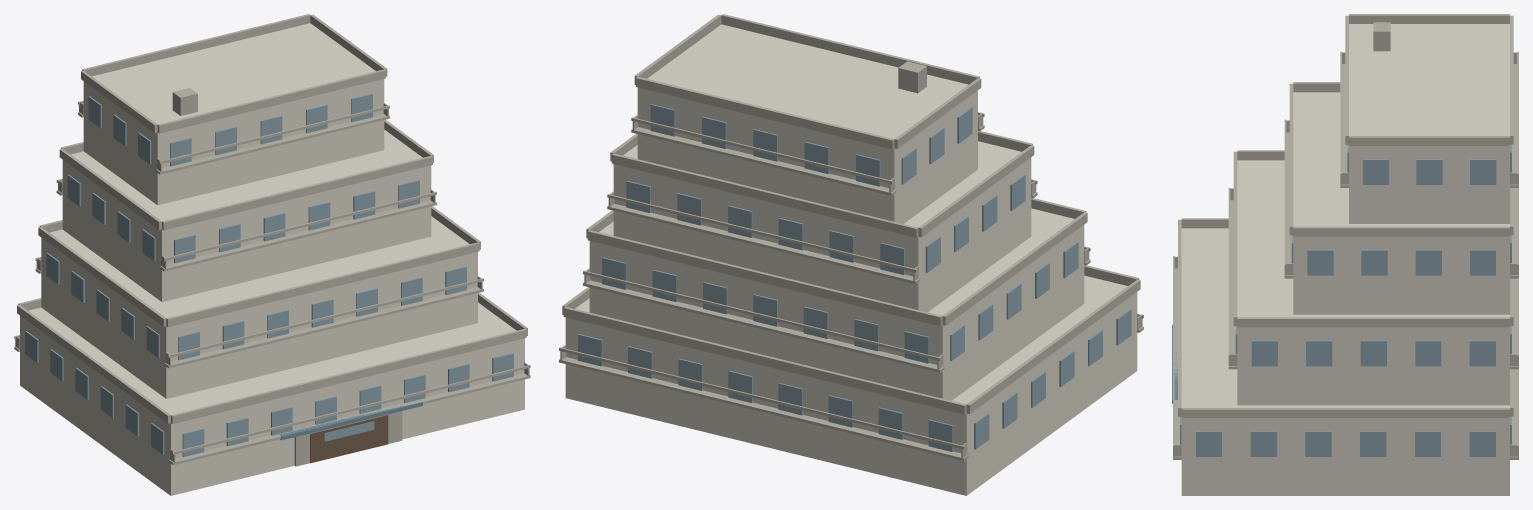
The model's file is residential_4x3_terraces.glb.
3 renders of one model, left to right at view 1: azimuth 30°, elevation 25°; view 2: azimuth 150°, elevation 25°; view 3: azimuth 270°, elevation 25°, orthographic. The views are drawn at different scales.
Visible parts, largest first — view 1: residential_4x3_terraces_0; view 2: residential_4x3_terraces_0; view 3: residential_4x3_terraces_0.
Part boxes in pixels (x1,y1,x2,y2): residential_4x3_terraces_0: (14, 14, 530, 495); residential_4x3_terraces_0: (559, 14, 1143, 495); residential_4x3_terraces_0: (1172, 14, 1518, 495).
Size of the model in its own units: 31 by 25.5 by 23.75.
